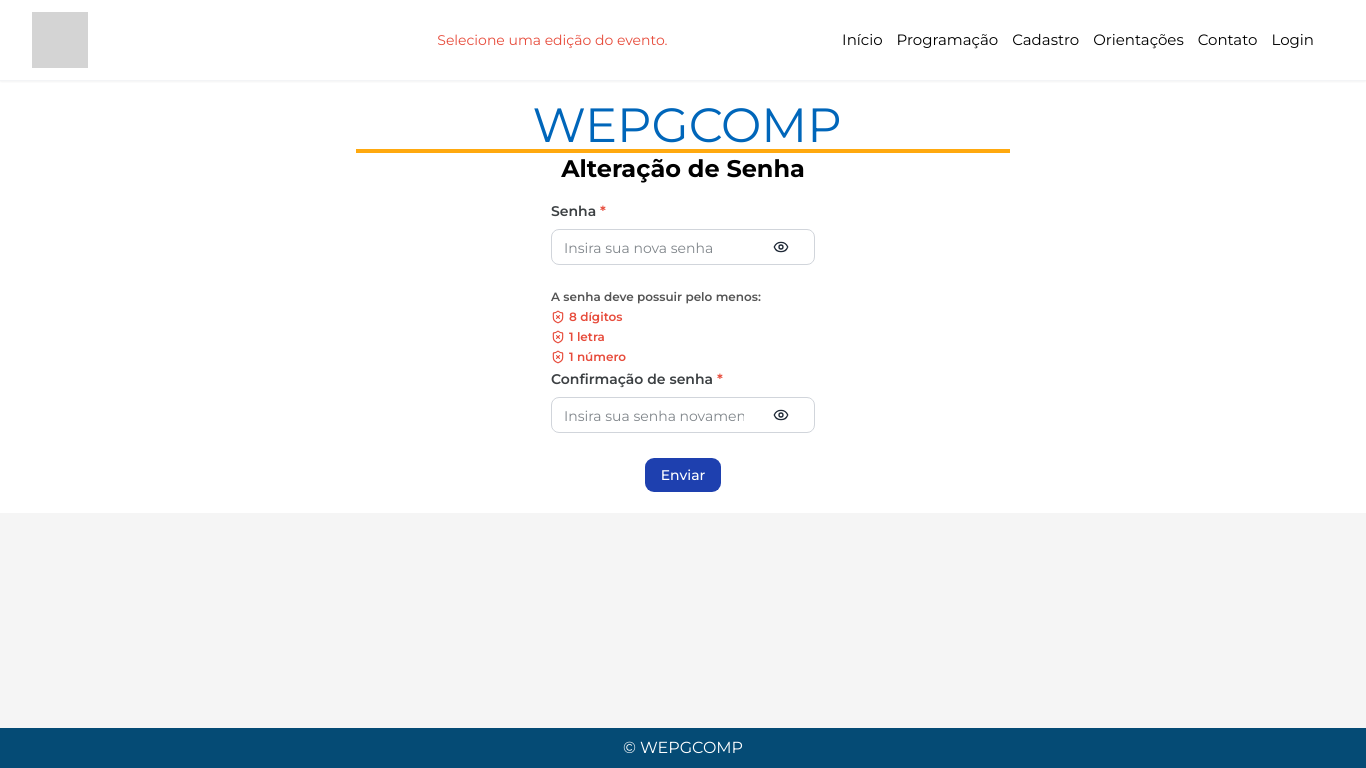
Scenario: Componente do Formulário de Alterar Senha › Deve exibir mensagens de erro para campos obrigatórios vazios
The width and height of the screenshot is (1366, 768).
What coordinates should you click on to do the following:
click the submit button
I would click on:
 (684, 475)
Its box is x1=644 y1=457 x2=723 y2=493.
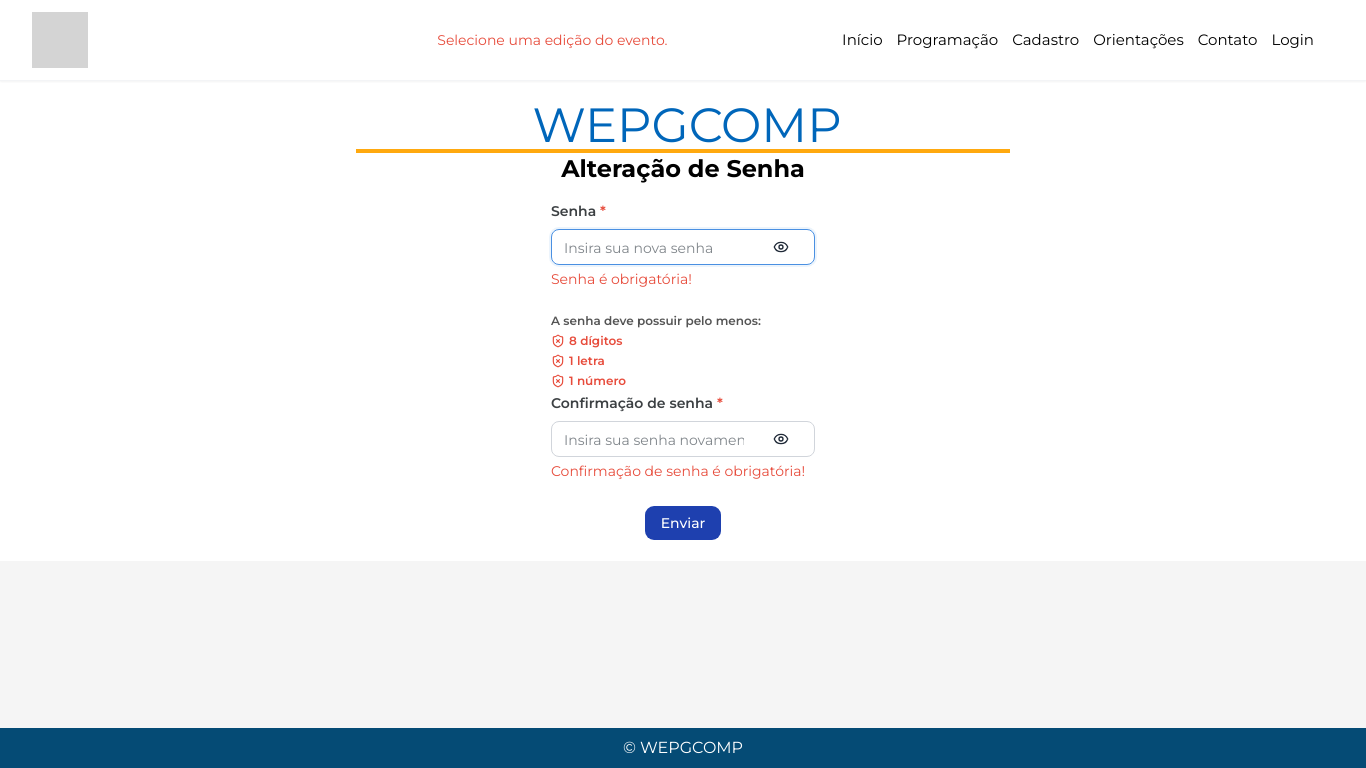
Check: the text "Senha é obrigatória!" is shown, box x1=551 y1=270 x2=692 y2=288
Check: the text "Confirmação de senha é obrigatória!" is shown, box x1=551 y1=461 x2=815 y2=481
